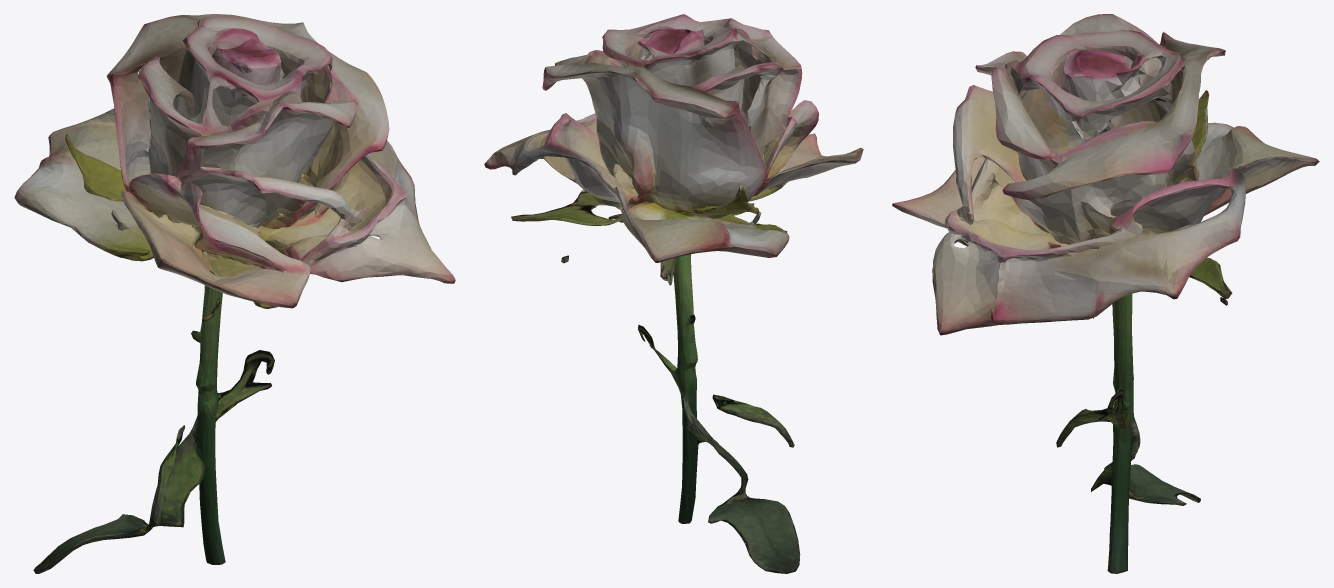
3 views of the same model, side by side, from view 1: azimuth 30°, elevation 25°; view 2: azimuth 150°, elevation 25°; view 3: azimuth 270°, elevation 25° (orthographic). The views are drawn at different scales.
Visible parts, largest first — view 1: world; view 2: world; view 3: world.
Part boxes in pixels (x1,y1,x2,y2): world: (14,14,455,573); world: (484,14,863,573); world: (892,14,1319,573).
Bounding box in the file's own units: 0.6321 × 0.9216 × 0.6735.
1 material, 1 textured.
